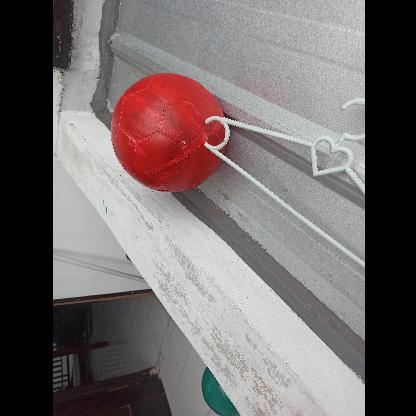red_ball: (110, 72, 226, 190)
